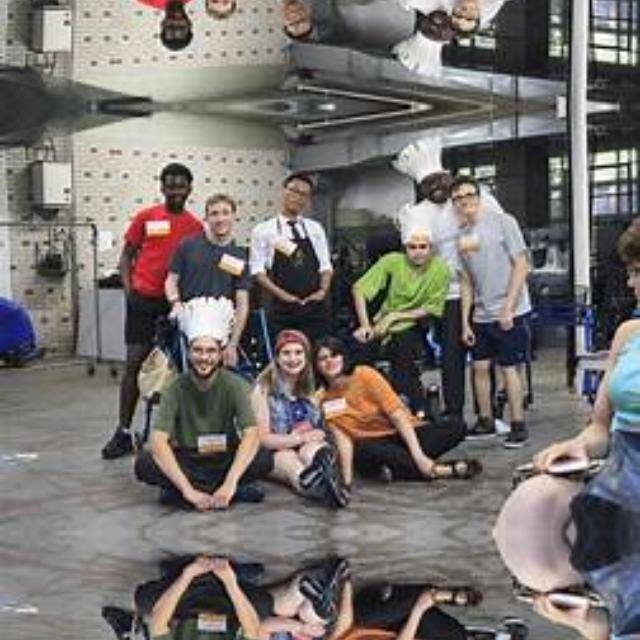person: (162, 310, 256, 506), (316, 341, 450, 467), (244, 174, 336, 312), (451, 186, 542, 324), (366, 221, 452, 335), (260, 334, 322, 486), (161, 560, 256, 640), (132, 152, 198, 258), (188, 195, 260, 289), (388, 131, 452, 221), (316, 598, 450, 640), (388, 0, 452, 81), (132, 0, 198, 60), (260, 579, 322, 640), (244, 0, 336, 38), (450, 0, 541, 25), (188, 0, 260, 17)
